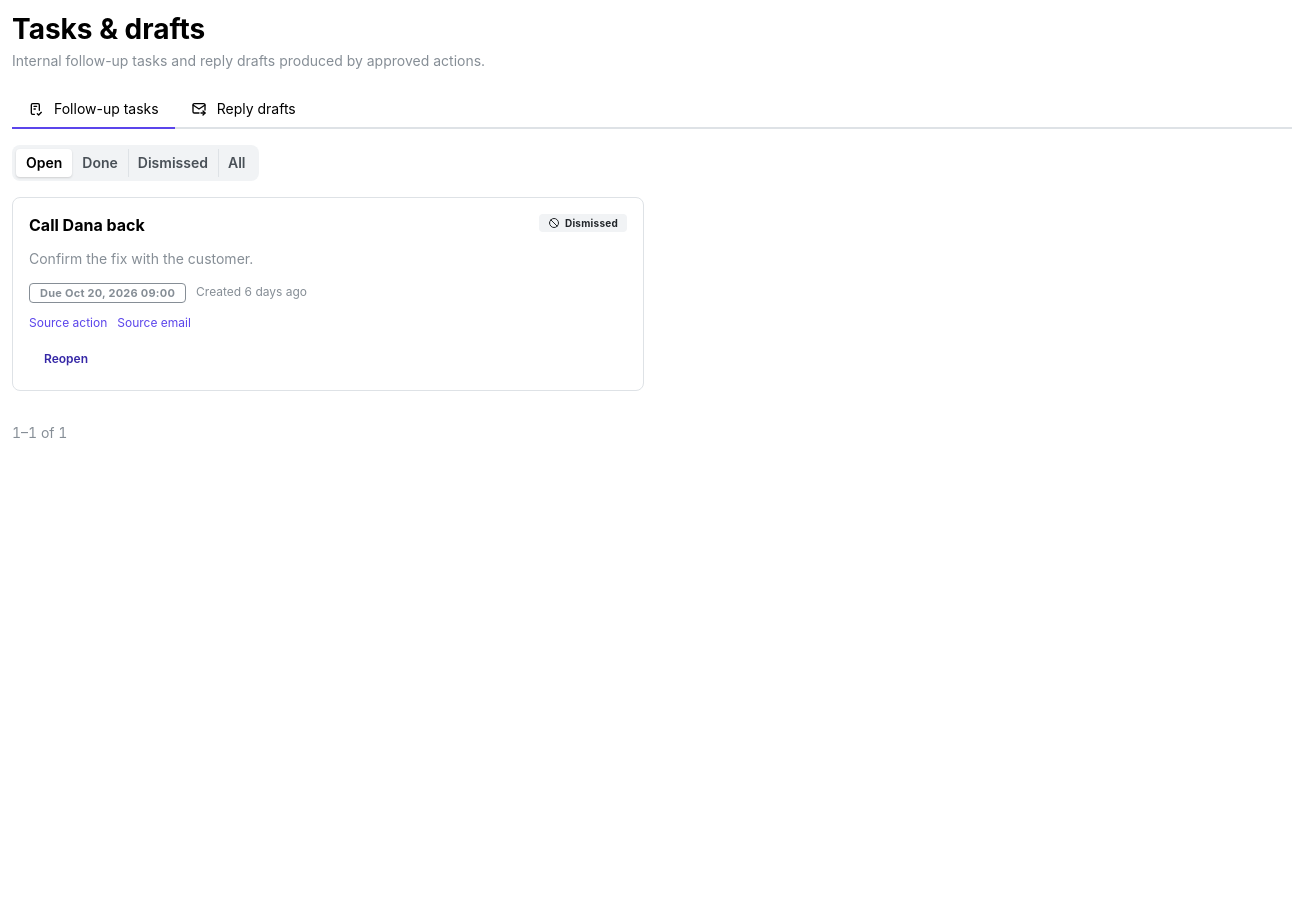
Test case: <TasksPage> follow-up tasks › Reopen sends PATCH {status: dismissed → open} and toasts
The width and height of the screenshot is (1292, 912).
Click the button "Reopen" at (66, 359), box [29,344,103,374]
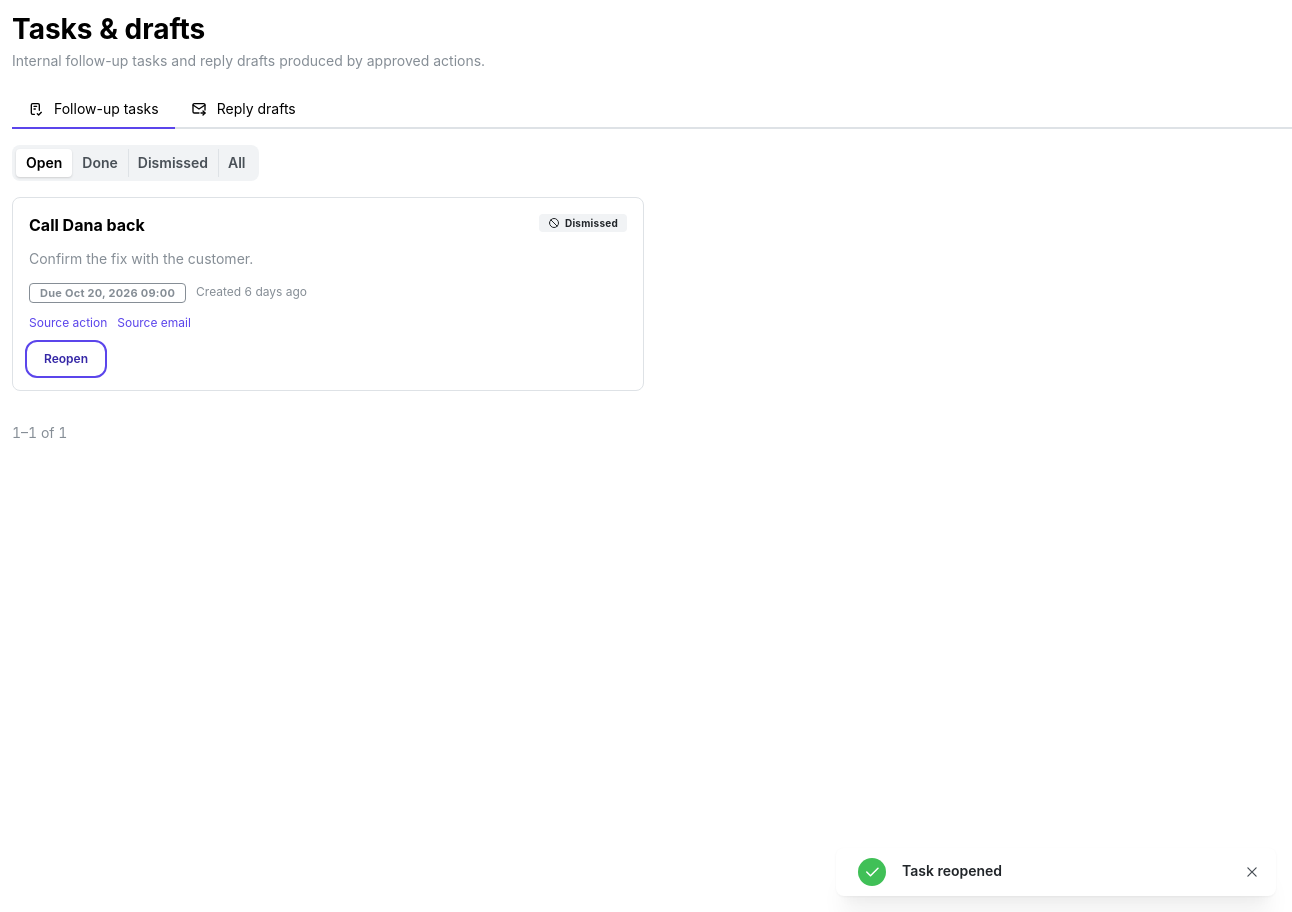
Expected: the text "Task reopened" is shown, [902,862,1002,879]
